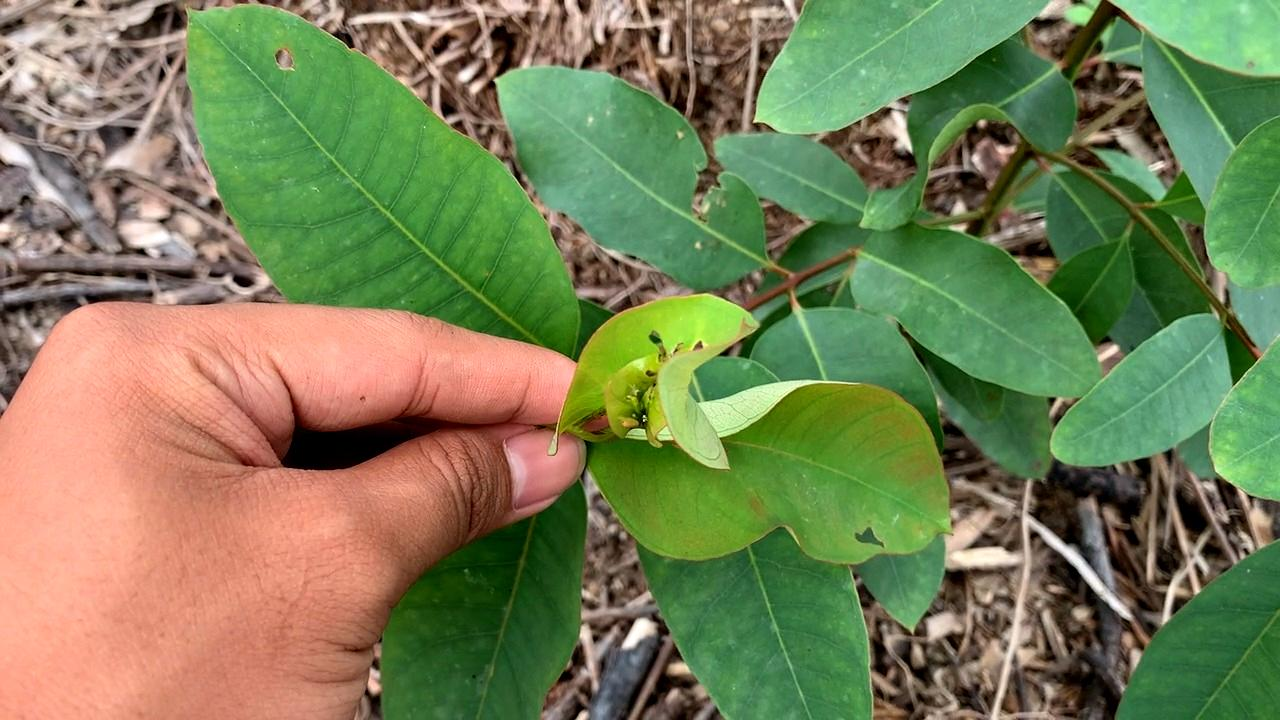Leaf Roller - Leaf: (552, 290, 754, 473)
